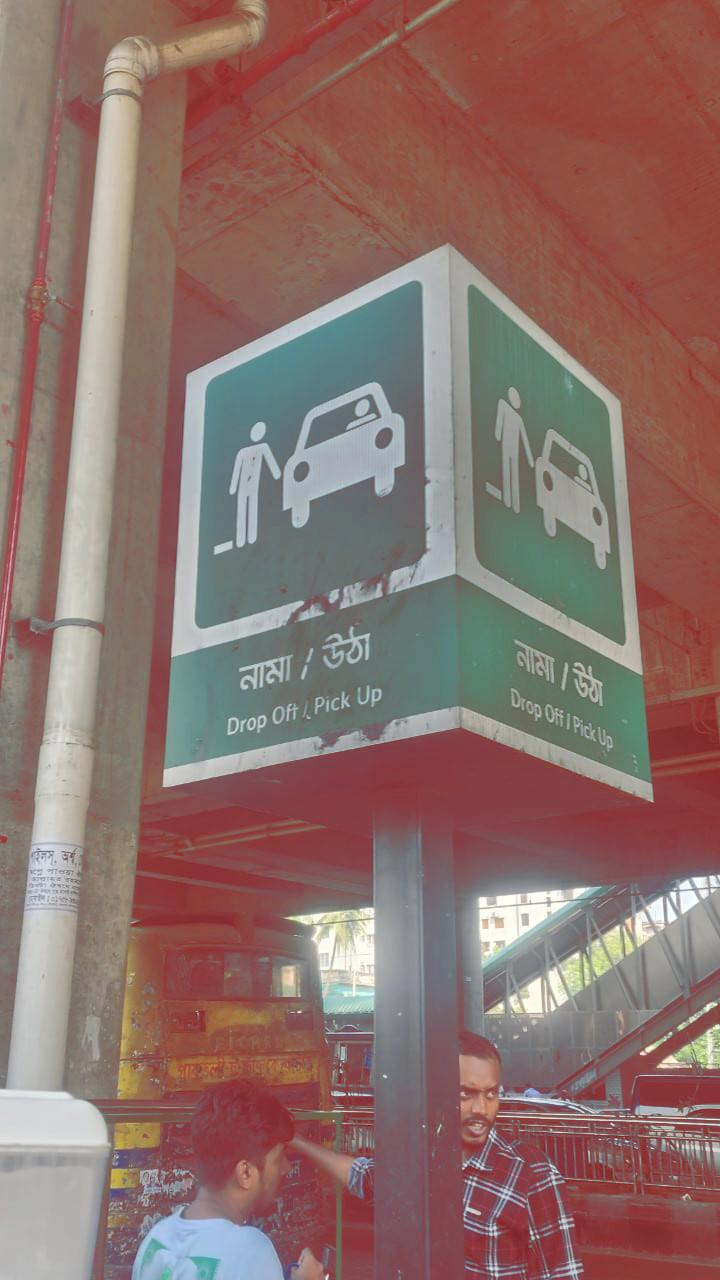Metro Dorp Up Pick up: (172, 228, 679, 828)
